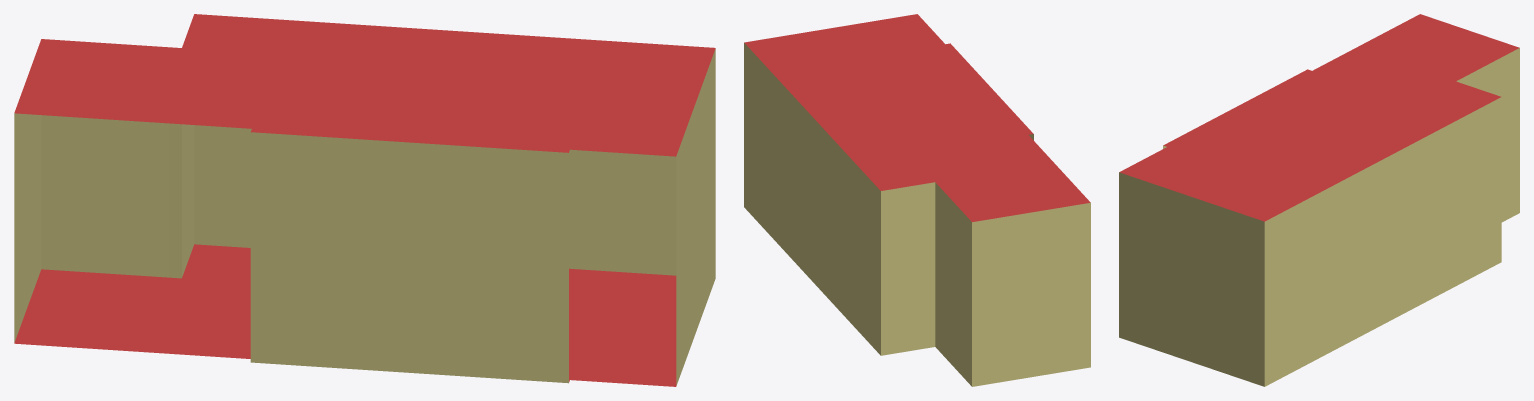
The picture shows the model from 3 angles, left to right: view 1: azimuth 30°, elevation 25°; view 2: azimuth 150°, elevation 25°; view 3: azimuth 270°, elevation 25°; orthographic projection. The views are drawn at different scales.
Bounding box in the file's own units: 15.83 × 12.91 × 5.87.
